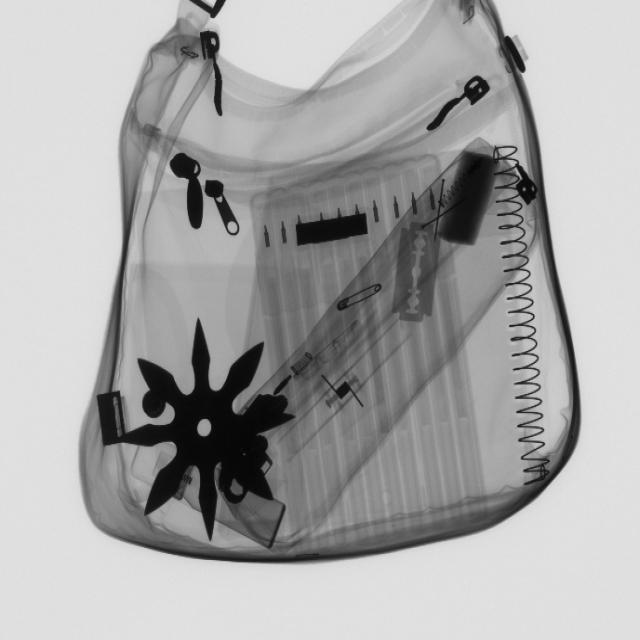BLADE: (387, 208, 446, 331)
SHURIKEN: (122, 316, 290, 544)
